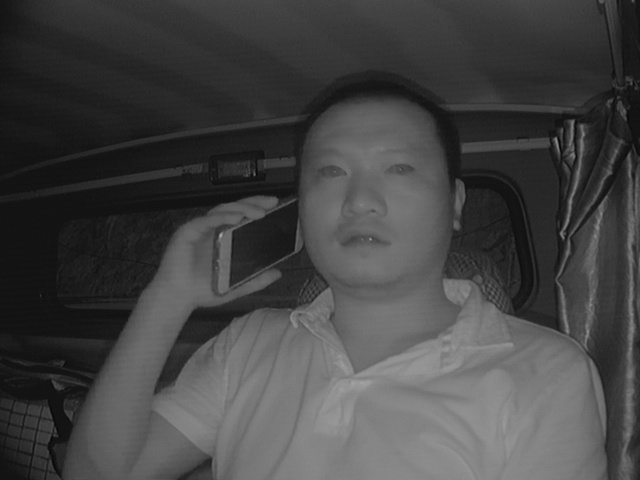hand: (165, 195, 282, 310)
